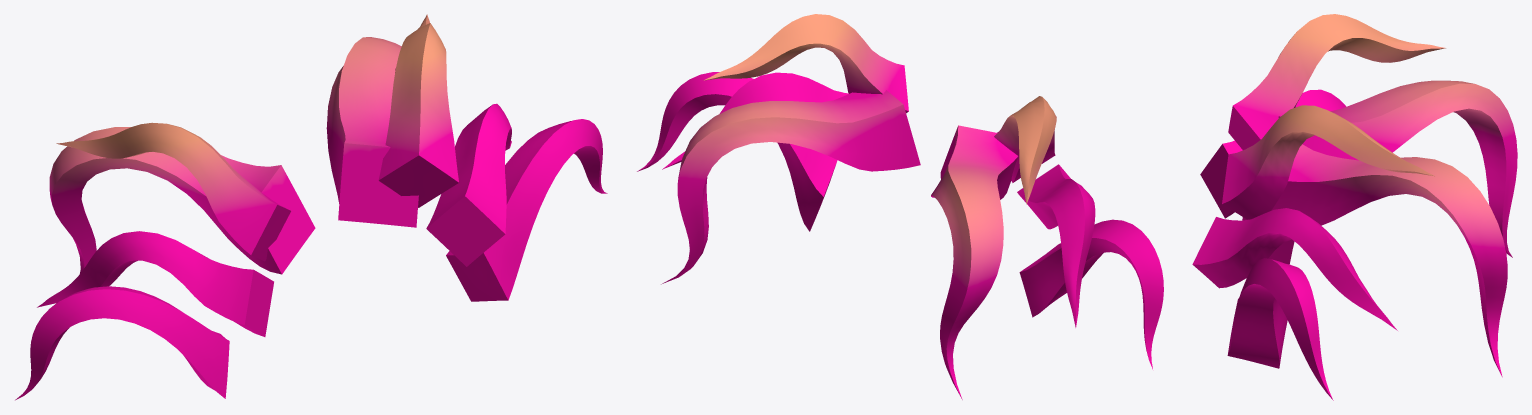
Rendered from Branquias_4.glb.
3 views of the same model, side by side, from view 1: azimuth 30°, elevation 25°; view 2: azimuth 150°, elevation 25°; view 3: azimuth 270°, elevation 25° (orthographic). The views are drawn at different scales.
Visible parts, largest first — view 1: TRIANGULO BRANQUIAS; view 2: TRIANGULO BRANQUIAS; view 3: TRIANGULO BRANQUIAS.
Part boxes in pixels (x1,y1,x2,y2): TRIANGULO BRANQUIAS: [15, 14, 607, 400]; TRIANGULO BRANQUIAS: [637, 14, 1163, 399]; TRIANGULO BRANQUIAS: [1192, 14, 1517, 400].
Bounding box in the file's own units: 2.75 × 1.32 × 1.38.
Materials: 1 (1 with a texture image).
